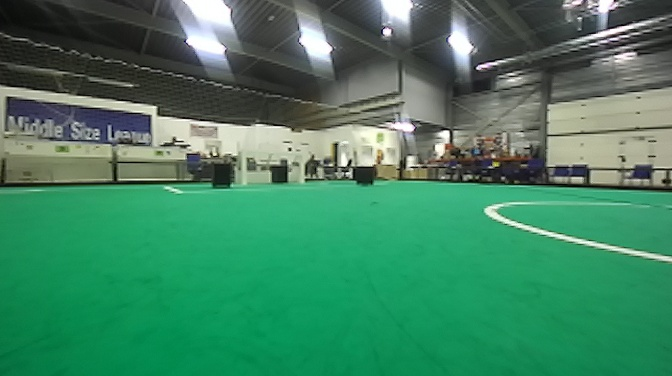goalpost: (294, 147, 308, 183), (235, 143, 247, 183)
